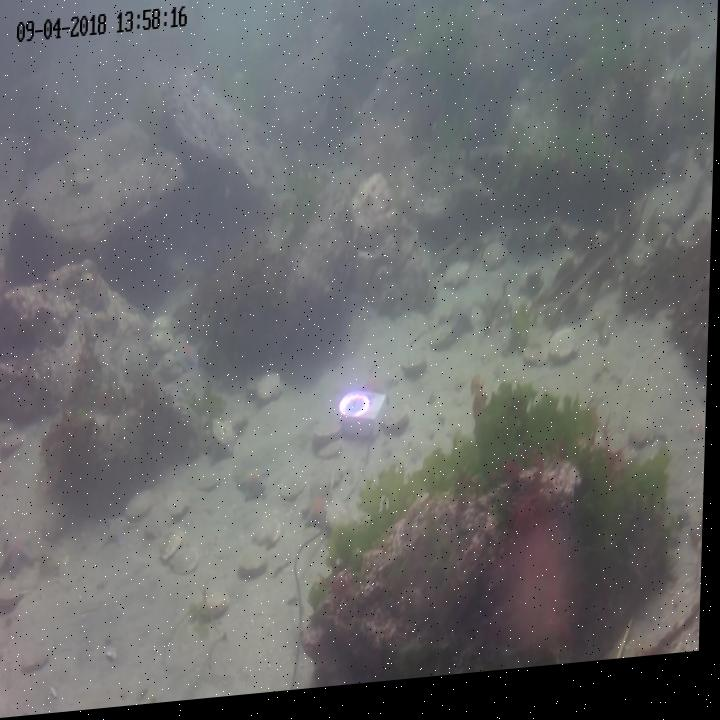scallop: (549, 340, 585, 380), (172, 547, 206, 584), (202, 593, 236, 628), (257, 518, 284, 561), (213, 416, 241, 456), (128, 490, 158, 525), (483, 247, 512, 283), (45, 507, 71, 546), (257, 377, 285, 413), (385, 411, 413, 447), (241, 557, 272, 589), (314, 422, 347, 452), (426, 332, 455, 362), (445, 269, 473, 300), (168, 494, 195, 525), (282, 475, 307, 508), (163, 535, 187, 569), (0, 585, 27, 614), (152, 330, 177, 361), (3, 430, 29, 458), (154, 315, 178, 344), (405, 361, 428, 391), (201, 469, 226, 496), (248, 379, 269, 407), (326, 444, 348, 462), (0, 637, 8, 674)
starfish: (0, 526, 41, 582), (362, 370, 401, 417), (239, 473, 277, 510), (204, 435, 240, 474), (450, 307, 477, 350), (304, 500, 331, 541), (105, 517, 132, 557), (176, 341, 202, 381), (163, 379, 189, 413), (89, 286, 113, 320)
